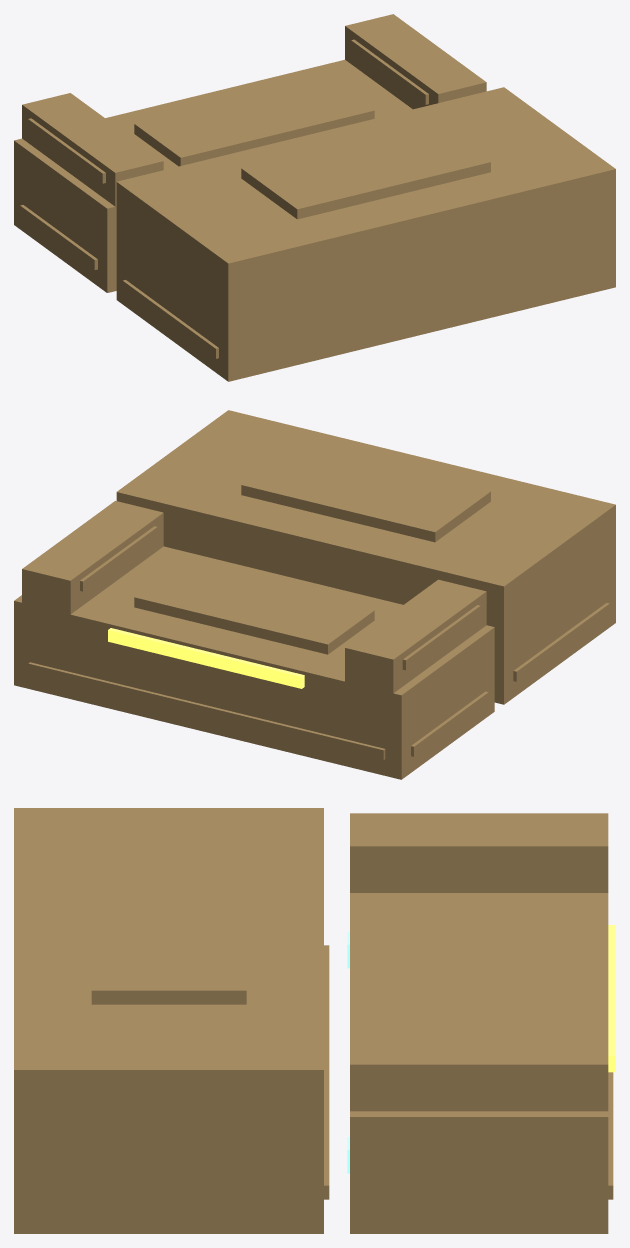
Rendered from logistics_hub_lod0-Cy7r0xJh.glb.
The picture shows the model from 3 angles, top to bottom: view 1: azimuth 30°, elevation 25°; view 2: azimuth 150°, elevation 25°; view 3: azimuth 270°, elevation 25°; orthographic projection. The views are drawn at different scales.
Parts seen in each view (by area): view 1: body; view 2: body, sign; view 3: body, sign.
Boxes of the visible parts, bbox=[...] form: body: bbox=[14, 14, 615, 381]; body: bbox=[14, 410, 615, 779]; sign: bbox=[108, 628, 304, 688]; body: bbox=[14, 808, 613, 1233]; sign: bbox=[608, 925, 615, 1072].
Bounding box in the file's own units: 0.968 × 0.304 × 0.932.
